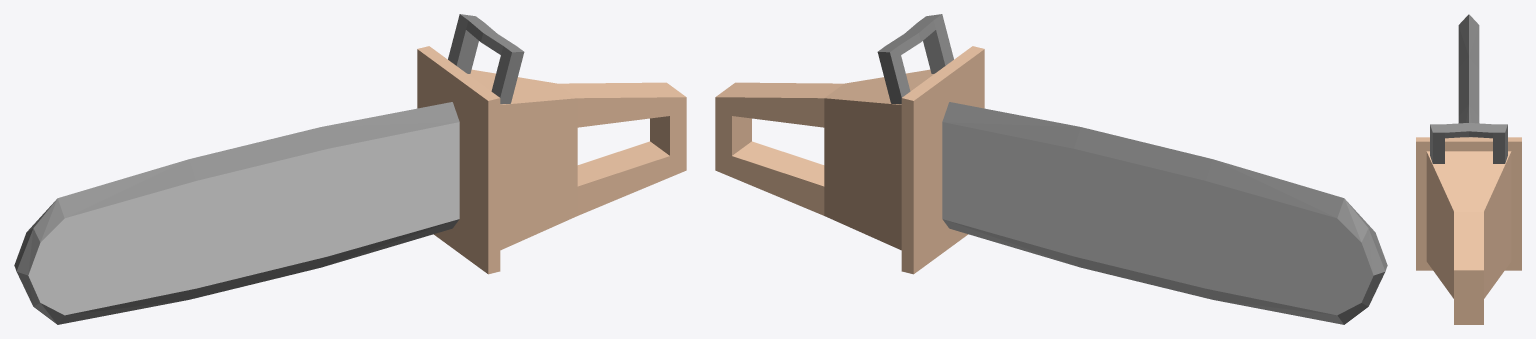
The model's file is Chainsaw.fbx.
3 renders of one model, left to right at view 1: azimuth 30°, elevation 25°; view 2: azimuth 150°, elevation 25°; view 3: azimuth 270°, elevation 25°, orthographic. The views are drawn at different scales.
Visible parts, largest first — view 1: Chainsaw; view 2: Chainsaw; view 3: Chainsaw.
Part boxes in pixels (x1,y1,x2,y2): Chainsaw: (14,14,686,324); Chainsaw: (715,14,1387,324); Chainsaw: (1416,14,1521,324).
Size of the model in its own units: 0.545 by 0.164 by 0.1016.
